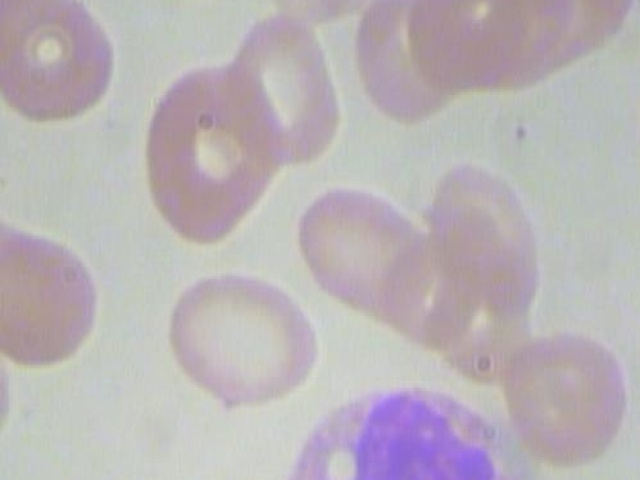RBC: (127, 58, 294, 247), (147, 261, 320, 421), (287, 164, 430, 336), (503, 310, 630, 473), (427, 152, 540, 316), (0, 219, 108, 373), (0, 0, 129, 122), (403, 0, 537, 108), (243, 0, 393, 27), (632, 28, 640, 191)
WBC: (258, 386, 564, 480)
